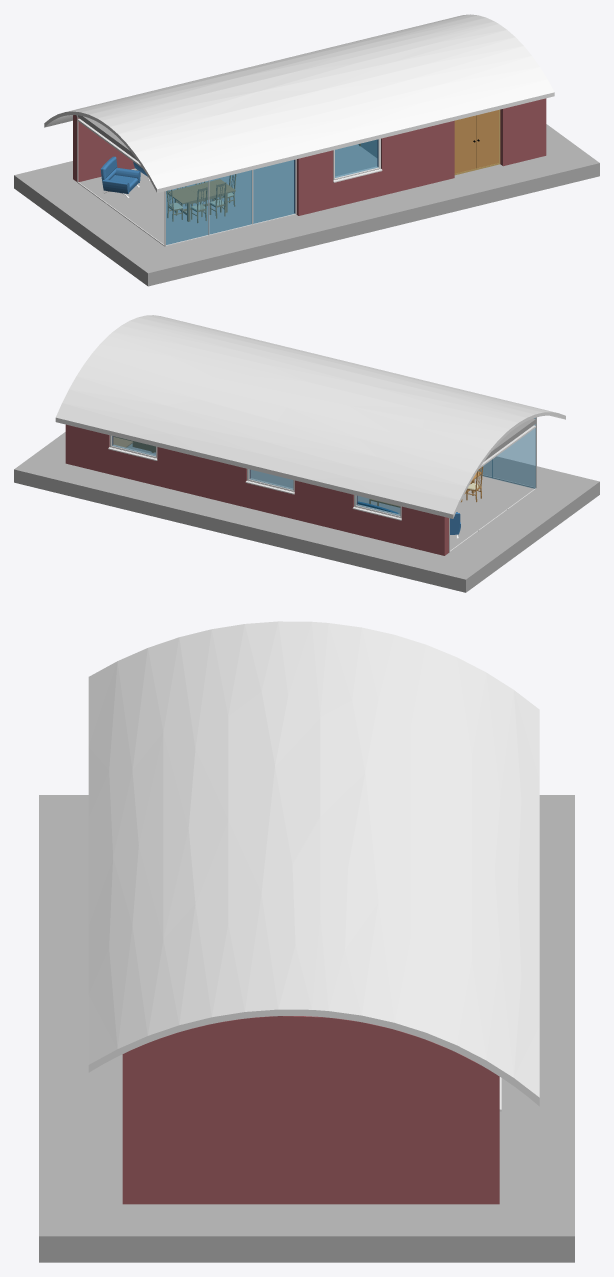
Rendered from Ifc4_SampleHouse.obj.
The picture shows the model from 3 angles, top to bottom: view 1: azimuth 30°, elevation 25°; view 2: azimuth 150°, elevation 25°; view 3: azimuth 270°, elevation 25°; orthographic projection. The views are drawn at different scales.
Parts seen in each view (by area): view 1: Basic_Roof_Roof_Flat-4Felt-150Ins-50Scr-150Conc-12Plr_286419_3cU, Floor_Floor-Grnd-Susp_65Scr-80Ins-100Blk-75PC_286349_3cUkl32yn9q, Basic_Wall_Wall-Ext_102Bwk-75Ins-100LBlk-12P_285459_3cUkl32yn9qR, Doors_ExtDbl_Flush_1810x2110mm_285860_3cUkl32yn9qRSPvBJVyWYp, System_Panel_Glazed_285688_3cUkl32yn9qRSPvBJVyW$l, System_Panel_Glazed_285685_3cUkl32yn9qRSPvBJVyW$Y, System_Panel_Glazed_285690_3cUkl32yn9qRSPvBJVyW$j, Basic_Wall_Wall-Ext_102Bwk-75Ins-100LBlk-12P_285330_3cUkl32yn9qR, Windows_Sgl_Plain_1810x1210mm_287567_3cUkl32yn9qRSPvBJVyZTO, Furniture_Table_Dining_w-Chairs_Rectangular_2000x1000x750mm_w-6_, Furniture_Chair_Viper_1120x940x350mm_291916_3cUkl32yn9qRSPvBJVyY, Curtain_Wall_Curtain_Wall-Exterior_Glazing_8490_09J5N7xMHBfQZeQG (+2 smaller); view 2: Basic_Roof_Roof_Flat-4Felt-150Ins-50Scr-150Conc-12Plr_286419_3cU, Floor_Floor-Grnd-Susp_65Scr-80Ins-100Blk-75PC_286349_3cUkl32yn9q, Basic_Wall_Wall-Ext_102Bwk-75Ins-100LBlk-12P_285330_3cUkl32yn9qR, System_Panel_Glazed_285685_3cUkl32yn9qRSPvBJVyW$Y, Windows_Sgl_Plain_1810x1210mm_286105_3cUkl32yn9qRSPvBJVyWcE, Windows_Sgl_Plain_1810x1210mm_286188_3cUkl32yn9qRSPvBJVyWdx, Windows_Sgl_Plain_1810x1210mm_286238_3cUkl32yn9qRSPvBJVyWe9, Curtain_Wall_Curtain_Wall-Exterior_Glazing_8490_09J5N7xMHBfQZeQG, Floor_Simple_floor_295048_3ntFzSulnDNeQ4nJrMgcOt; view 3: Basic_Roof_Roof_Flat-4Felt-150Ins-50Scr-150Conc-12Plr_286419_3cU, Floor_Floor-Grnd-Susp_65Scr-80Ins-100Blk-75PC_286349_3cUkl32yn9q, Basic_Wall_Wall-Ext_102Bwk-75Ins-100LBlk-12P_285395_3cUkl32yn9qR, Basic_Wall_Wall-Ext_102Bwk-75Ins-100LBlk-12P_285330_3cUkl32yn9qR.
Boxes of the visible parts, x1,y1,x2,y2 form: Basic_Roof_Roof_Flat-4Felt-150Ins-50Scr-150Conc-12Plr_286419_3cU: (44,14,554,193); Floor_Floor-Grnd-Susp_65Scr-80Ins-100Blk-75PC_286349_3cUkl32yn9q: (14,124,599,286); Basic_Wall_Wall-Ext_102Bwk-75Ins-100LBlk-12P_285459_3cUkl32yn9qR: (294,100,538,215); Doors_ExtDbl_Flush_1810x2110mm_285860_3cUkl32yn9qRSPvBJVyWYp: (454,109,500,175); System_Panel_Glazed_285688_3cUkl32yn9qRSPvBJVyW$l: (209,170,251,234); System_Panel_Glazed_285685_3cUkl32yn9qRSPvBJVyW$Y: (166,181,207,244); System_Panel_Glazed_285690_3cUkl32yn9qRSPvBJVyW$j: (253,160,294,223); Basic_Wall_Wall-Ext_102Bwk-75Ins-100LBlk-12P_285330_3cUkl32yn9qR: (73,115,134,181); Windows_Sgl_Plain_1810x1210mm_287567_3cUkl32yn9qRSPvBJVyZTO: (333,138,382,182); Furniture_Table_Dining_w-Chairs_Rectangular_2000x1000x750mm_w-6_: (168,179,235,221); Furniture_Chair_Viper_1120x940x350mm_291916_3cUkl32yn9qRSPvBJVyY: (100,156,140,197); Curtain_Wall_Curtain_Wall-Exterior_Glazing_8490_09J5N7xMHBfQZeQG: (77,115,296,246); Basic_Roof_Roof_Flat-4Felt-150Ins-50Scr-150Conc-12Plr_286419_3cU: (55,315,565,518); Floor_Floor-Grnd-Susp_65Scr-80Ins-100Blk-75PC_286349_3cUkl32yn9q: (14,432,599,592); Basic_Wall_Wall-Ext_102Bwk-75Ins-100LBlk-12P_285330_3cUkl32yn9qR: (65,424,448,555); System_Panel_Glazed_285685_3cUkl32yn9qRSPvBJVyW$Y: (492,418,535,488); Windows_Sgl_Plain_1810x1210mm_286105_3cUkl32yn9qRSPvBJVyWcE: (108,435,157,460); Windows_Sgl_Plain_1810x1210mm_286188_3cUkl32yn9qRSPvBJVyWdx: (245,469,294,494); Windows_Sgl_Plain_1810x1210mm_286238_3cUkl32yn9qRSPvBJVyWe9: (352,495,401,520); Curtain_Wall_Curtain_Wall-Exterior_Glazing_8490_09J5N7xMHBfQZeQG: (449,417,536,552); Floor_Simple_floor_295048_3ntFzSulnDNeQ4nJrMgcOt: (484,418,535,461); Basic_Roof_Roof_Flat-4Felt-150Ins-50Scr-150Conc-12Plr_286419_3cU: (88,621,539,1106); Floor_Floor-Grnd-Susp_65Scr-80Ins-100Blk-75PC_286349_3cUkl32yn9q: (39,795,574,1262); Basic_Wall_Wall-Ext_102Bwk-75Ins-100LBlk-12P_285395_3cUkl32yn9qR: (122,1016,481,1204); Basic_Wall_Wall-Ext_102Bwk-75Ins-100LBlk-12P_285330_3cUkl32yn9qR: (481,1066,499,1204).
Bounding box in the file's own units: 16.87 × 3.95 × 8.67.
